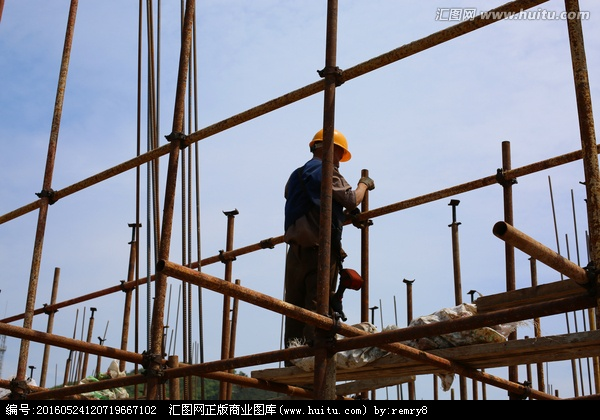yellow: (306, 125, 350, 166)
